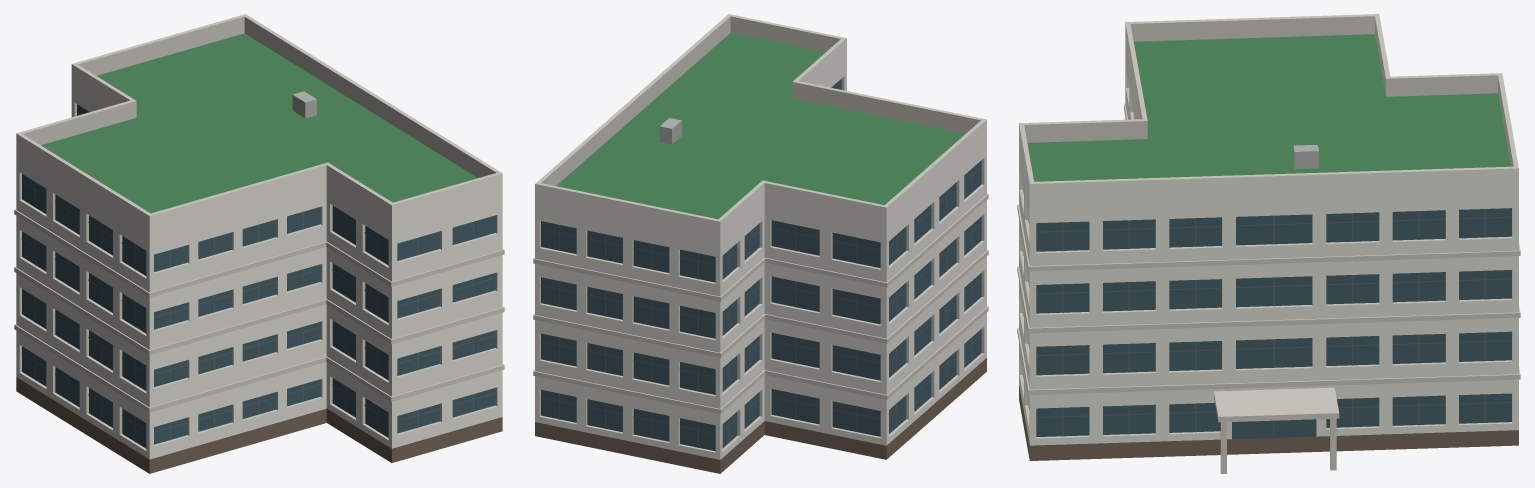
3 views of the same model, side by side, from view 1: azimuth 30°, elevation 25°; view 2: azimuth 150°, elevation 25°; view 3: azimuth 270°, elevation 25° (orthographic). The views are drawn at different scales.
Parts seen in each view (by area): view 1: wing4__wall-plaster, wing4__roof, wing4__glass, wing4__trim-concrete, wing4__base-stone, wing4__frame, wing4__equipment; view 2: wing4__wall-plaster, wing4__roof, wing4__glass, wing4__trim-concrete, wing4__base-stone, wing4__frame, wing4__equipment; view 3: wing4__wall-plaster, wing4__roof, wing4__glass, wing4__trim-concrete, wing4__base-stone, wing4__canopy-concrete, wing4__frame, wing4__equipment.
Part boxes in pixels (bbox=[...]): wing4__wall-plaster: bbox=[16, 64, 502, 459]; wing4__roof: bbox=[41, 33, 477, 213]; wing4__glass: bbox=[22, 104, 495, 448]; wing4__trim-concrete: bbox=[14, 14, 504, 450]; wing4__base-stone: bbox=[16, 377, 502, 473]; wing4__frame: bbox=[21, 111, 495, 442]; wing4__equipment: bbox=[292, 91, 316, 118]; wing4__wall-plaster: bbox=[535, 38, 986, 459]; wing4__roof: bbox=[556, 33, 965, 219]; wing4__glass: bbox=[541, 79, 981, 451]; wing4__trim-concrete: bbox=[533, 14, 988, 452]; wing4__base-stone: bbox=[535, 358, 986, 473]; wing4__frame: bbox=[540, 85, 981, 447]; wing4__equipment: bbox=[659, 118, 681, 144]; wing4__wall-plaster: bbox=[1019, 22, 1518, 445]; wing4__roof: bbox=[1027, 34, 1510, 181]; wing4__glass: bbox=[1023, 189, 1511, 439]; wing4__trim-concrete: bbox=[1017, 14, 1520, 438]; wing4__base-stone: bbox=[1019, 385, 1518, 460]; wing4__canopy-concrete: bbox=[1214, 387, 1339, 473]; wing4__frame: bbox=[1036, 209, 1511, 437]; wing4__equipment: bbox=[1293, 145, 1318, 168].
Size of the model in its own units: 23.78 by 16.15 by 26.57.
